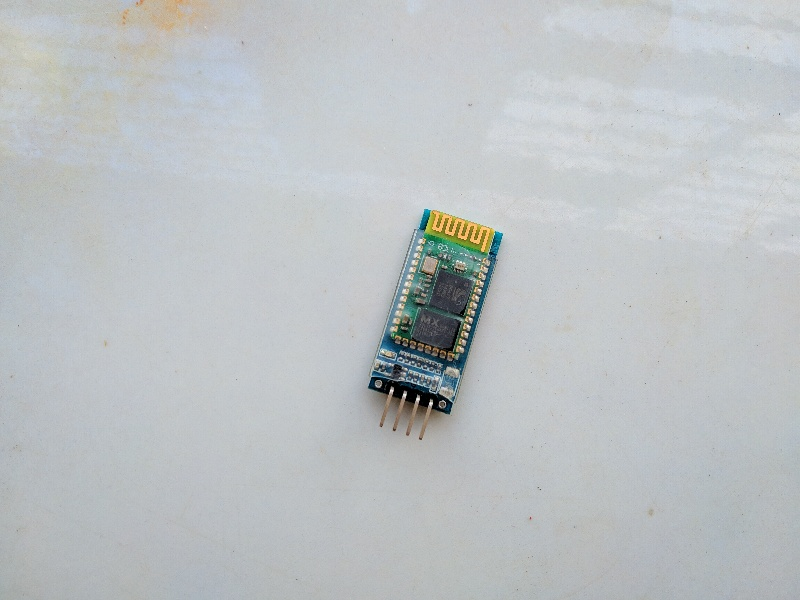HC-05: (364, 204, 507, 418)
